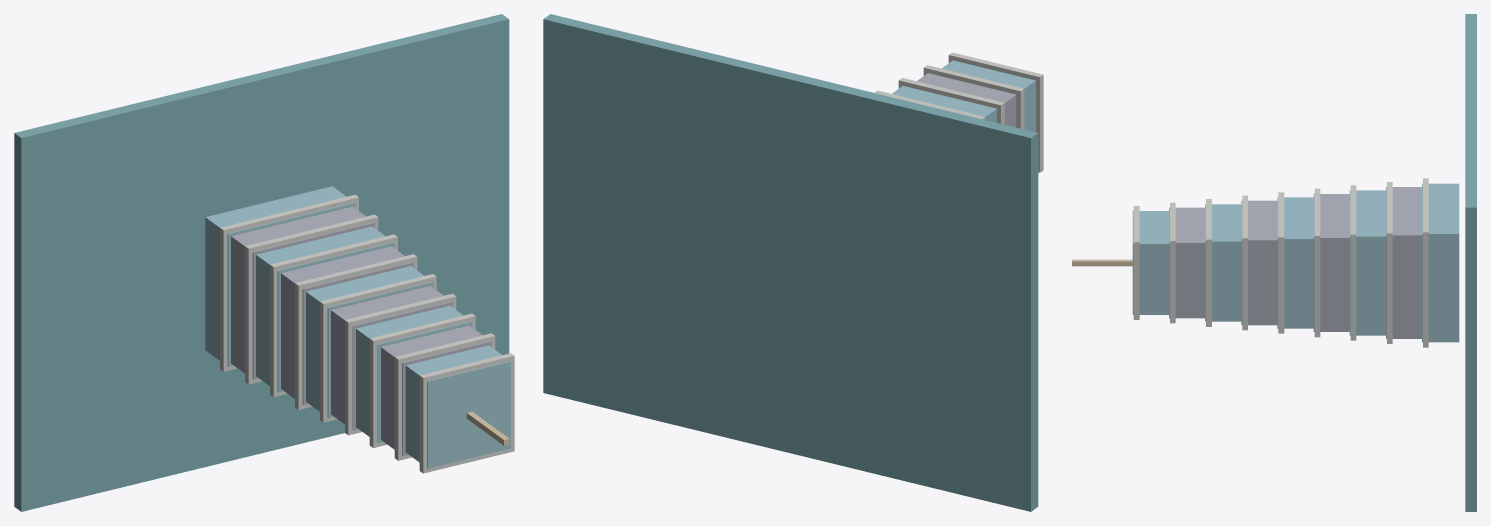
3 renders of one model, left to right at view 1: azimuth 30°, elevation 25°; view 2: azimuth 150°, elevation 25°; view 3: azimuth 270°, elevation 25°, orthographic. The views are drawn at different scales.
Parts seen in each view (by area): view 1: section_00, section_17, section_01, section_03, section_05, section_07, section_09, section_11, section_13, section_15, section_18, section_02 (+7 smaller); view 2: section_00, section_17, section_18, section_15, section_13, section_16, section_14; view 3: section_00, section_01, section_03, section_05, section_07, section_09, section_11, section_13, section_15, section_17, section_06, section_08 (+8 smaller).
Boxes of the visible parts, left/top/right/bottom form: section_00: left=14, top=14, right=509, bottom=511; section_17: left=405, top=345, right=510, bottom=468; section_01: left=205, top=186, right=355, bottom=366; section_03: left=231, top=206, right=374, bottom=379; section_05: left=256, top=226, right=394, bottom=392; section_07: left=281, top=246, right=413, bottom=404; section_09: left=306, top=266, right=433, bottom=417; section_11: left=331, top=286, right=452, bottom=430; section_13: left=356, top=305, right=472, bottom=443; section_15: left=381, top=325, right=491, bottom=455; section_18: left=419, top=353, right=514, bottom=473; section_02: left=220, top=194, right=358, bottom=371; section_00: left=543, top=14, right=1038, bottom=511; section_17: left=942, top=60, right=1035, bottom=132; section_18: left=948, top=52, right=1043, bottom=172; section_15: left=917, top=73, right=1016, bottom=127; section_13: left=892, top=86, right=996, bottom=122; section_16: left=923, top=65, right=1024, bottom=129; section_14: left=898, top=78, right=1004, bottom=124; section_00: left=1465, top=14, right=1476, bottom=511; section_01: left=1422, top=183, right=1459, bottom=342; section_03: left=1386, top=187, right=1421, bottom=338; section_05: left=1349, top=190, right=1385, bottom=335; section_07: left=1313, top=194, right=1349, bottom=331; section_09: left=1277, top=197, right=1313, bottom=328; section_11: left=1241, top=200, right=1277, bottom=325; section_13: left=1205, top=204, right=1241, bottom=321; section_15: left=1169, top=207, right=1204, bottom=318; section_17: left=1132, top=211, right=1168, bottom=314; section_06: left=1350, top=185, right=1356, bottom=340; section_08: left=1314, top=188, right=1320, bottom=337.
Size of the model in its own units: 7.1 by 5.2 by 6.27.
